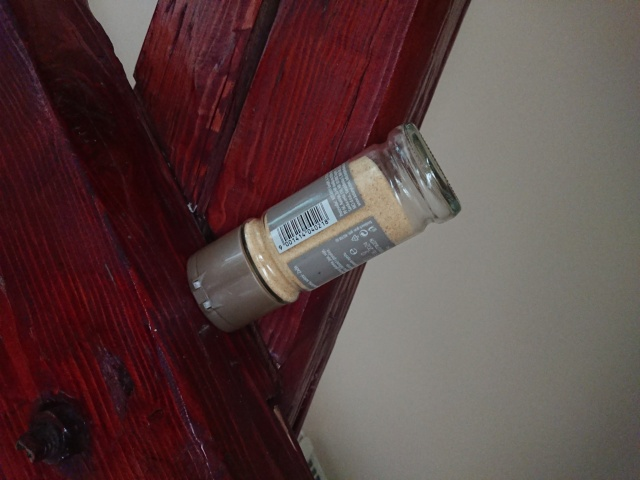Kotanyi Garlic Granules 70g: (183, 120, 464, 335)
